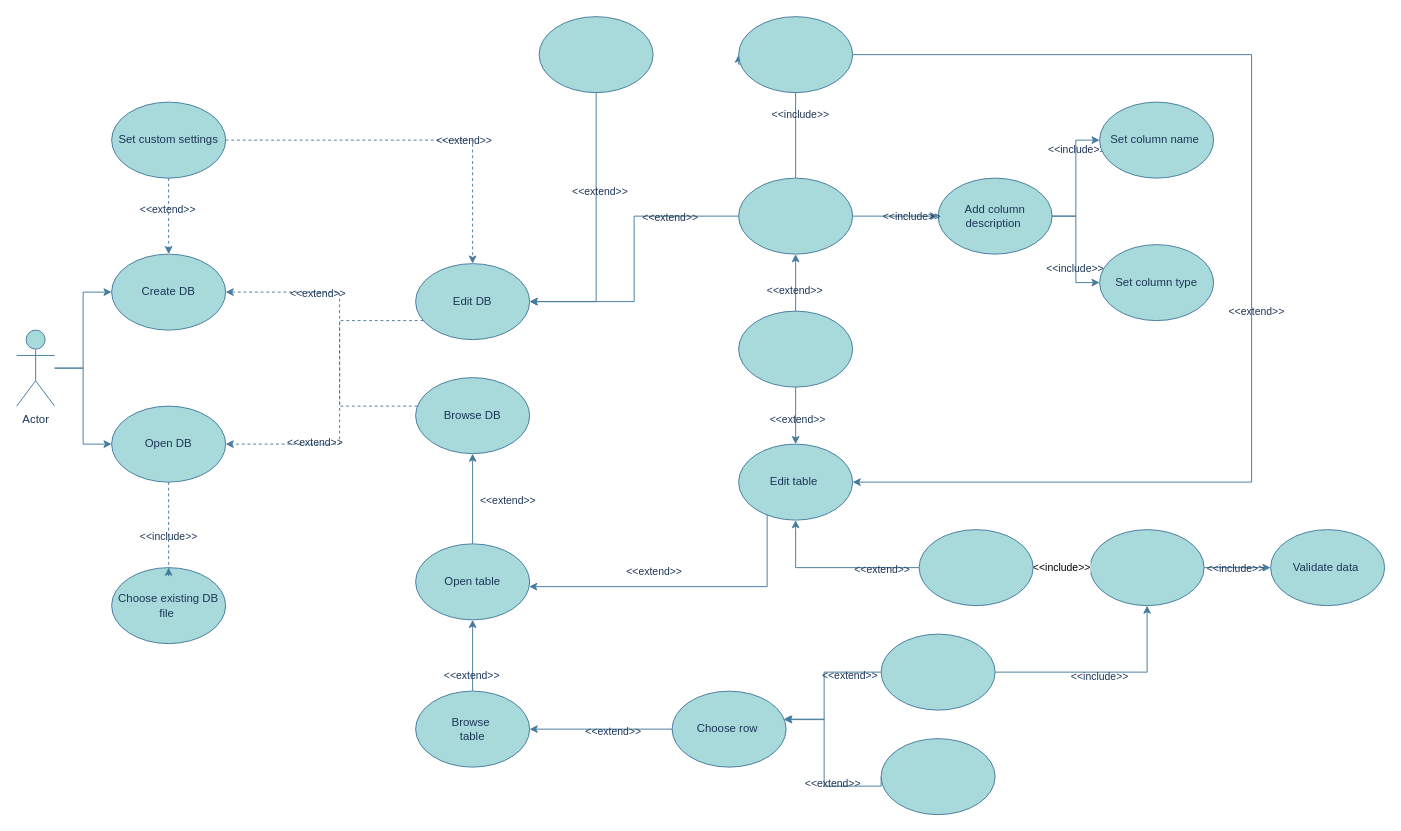
This 1401x831 diagram has some shape labels left out. Each missing label, with the box of its shape:
Add table relationship: (738, 310, 853, 387)
Create a new table: (738, 177, 853, 254)
Delete DB: (538, 16, 653, 93)
Delete row: (880, 738, 995, 815)
Edit row: (880, 633, 995, 710)
Enter data: (1089, 529, 1204, 606)
Insert row: (918, 529, 1033, 606)
Set table name: (738, 16, 853, 93)
